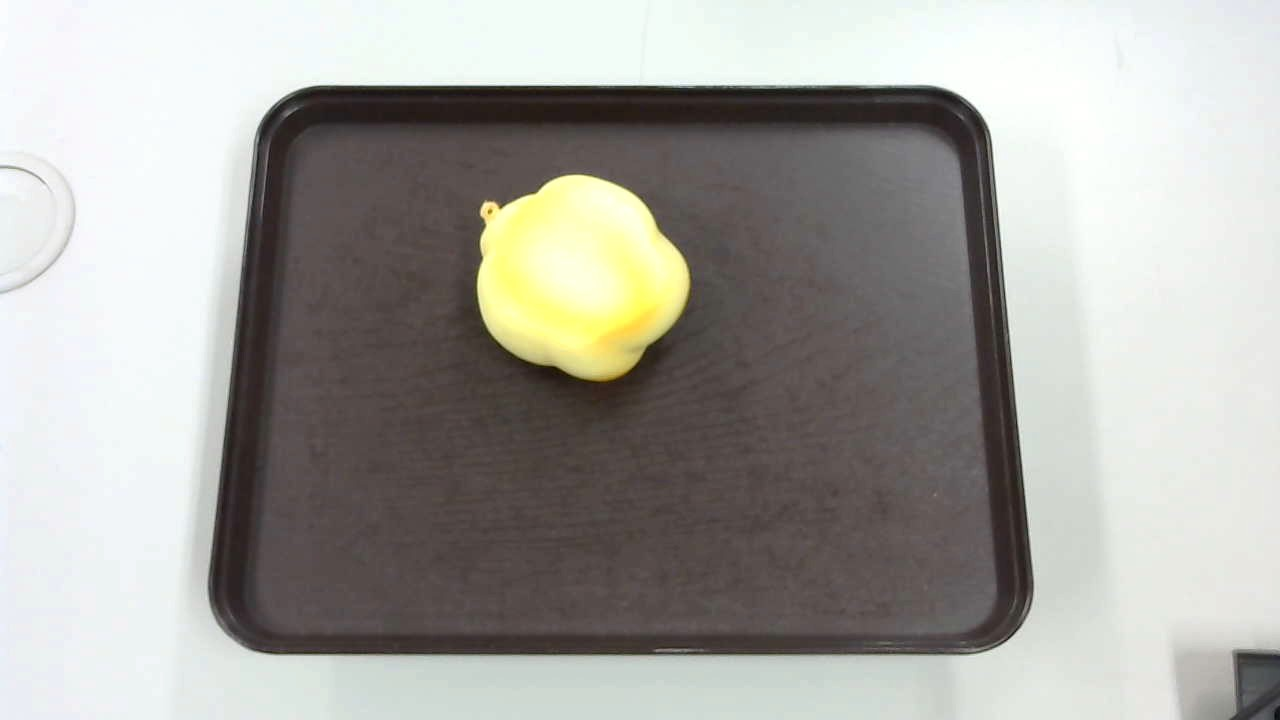twist bread: (477, 174, 690, 381)
